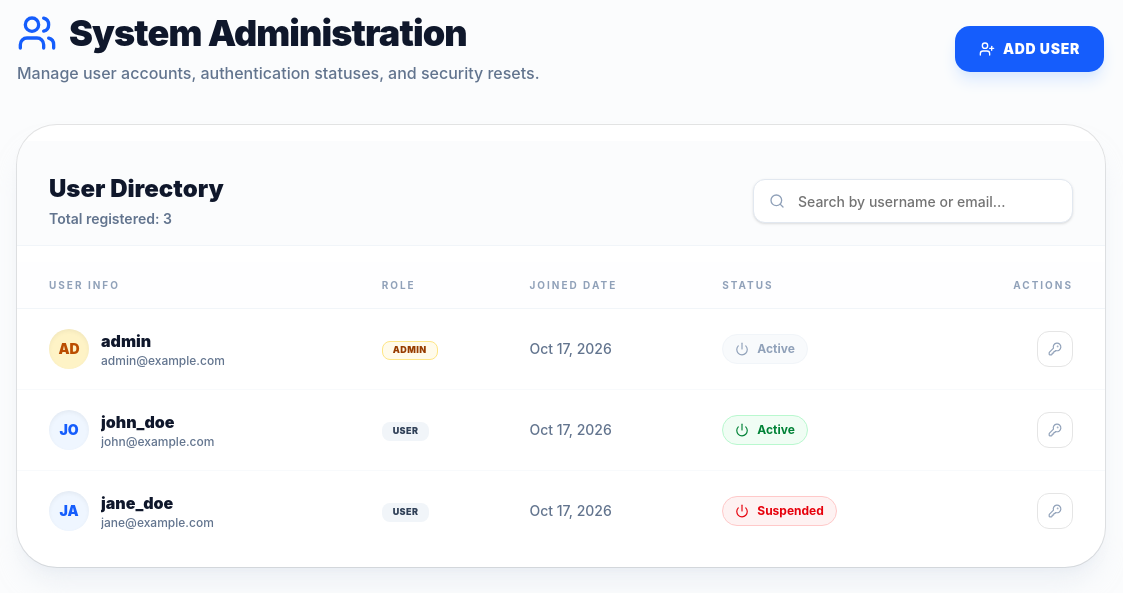
AdminDashboard Page Tests › filters directory by search query
This screenshot has width=1123, height=593.
Expected: the text "john_doe" is shown, [101, 412, 174, 432]
In the field with placeholder "Search by username or email...": (913, 201) [753, 179, 1073, 223], type "john"
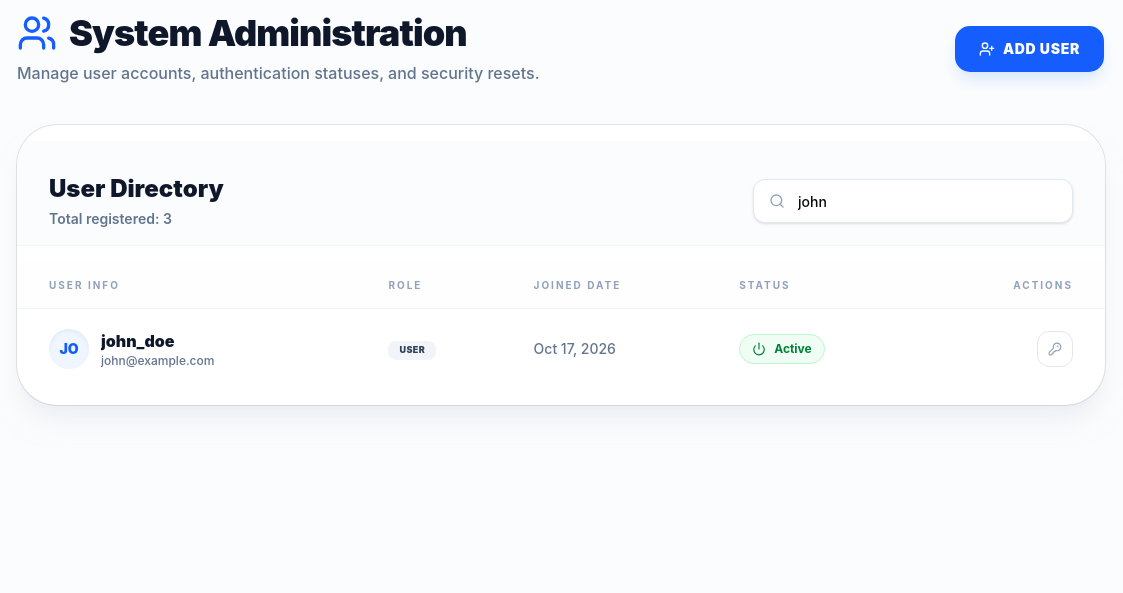
Expected: the text "john_doe" is shown, [101, 331, 174, 351]
Expected: the text "jane_doe" is gone
